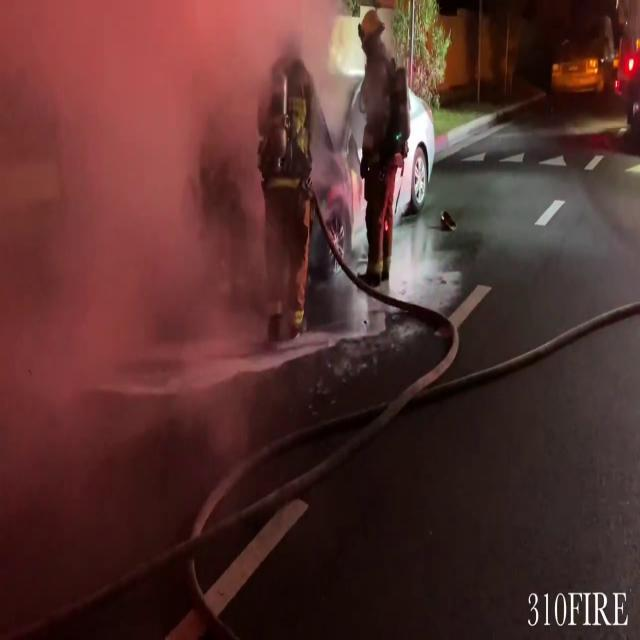Smoke: (0, 0, 286, 444)
